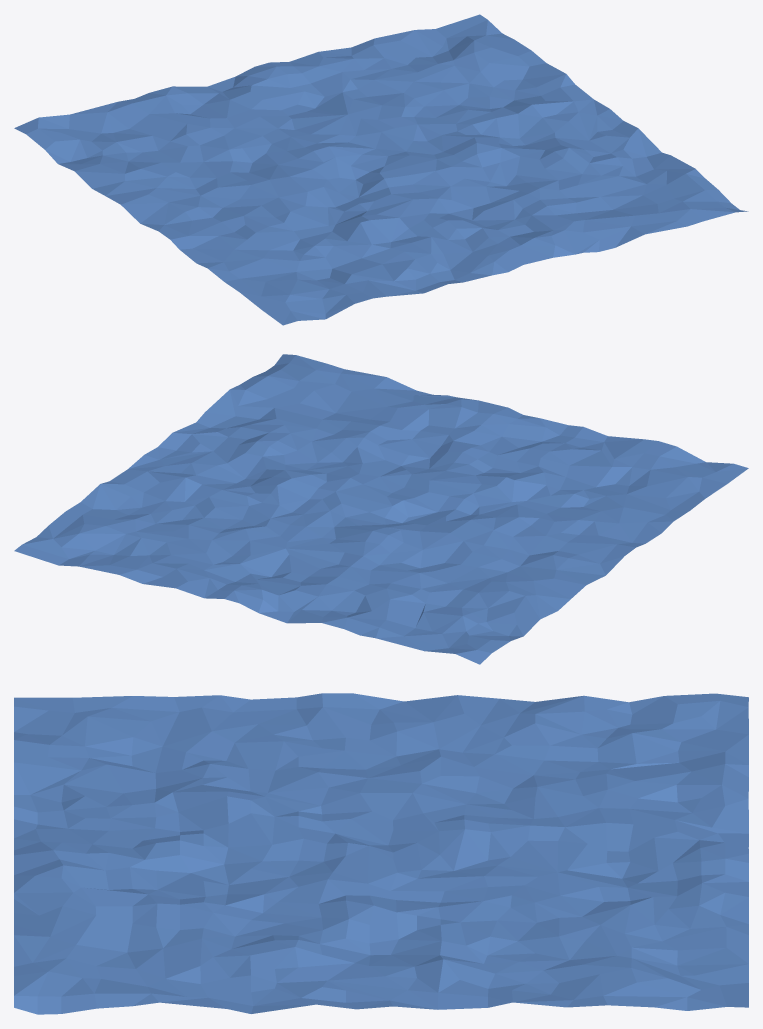
File: water.fbx
3 views of the same model, one above another, from view 1: azimuth 30°, elevation 25°; view 2: azimuth 150°, elevation 25°; view 3: azimuth 270°, elevation 25° (orthographic). The views are drawn at different scales.
Visible parts, largest first — view 1: Plane; view 2: Plane; view 3: Plane.
Part boxes in pixels (x1=…): Plane: x1=14, y1=14, x2=748, y2=325; Plane: x1=14, y1=354, x2=748, y2=664; Plane: x1=14, y1=693, x2=748, y2=1014.
Size of the model in its own units: 2 by 0.0691 by 2.
